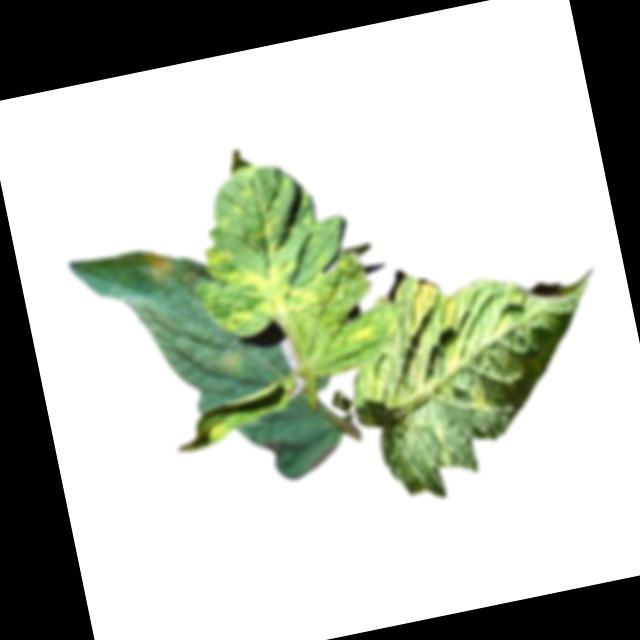Leaf_Mold: (177, 149, 334, 343), (379, 270, 476, 387), (143, 245, 179, 283), (341, 314, 381, 347), (213, 342, 246, 375), (464, 378, 491, 412)
